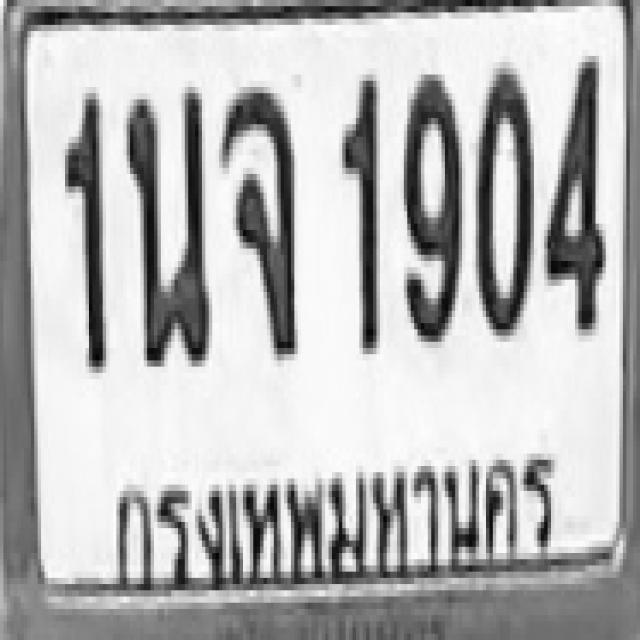0: (474, 62, 532, 336)
1: (60, 90, 104, 370), (339, 72, 380, 351)
17ChorChan: (219, 84, 298, 357)
34NorNu: (125, 80, 207, 367)
4: (543, 50, 604, 329)
9: (400, 68, 462, 342)
Bangkok: (102, 431, 570, 593)
